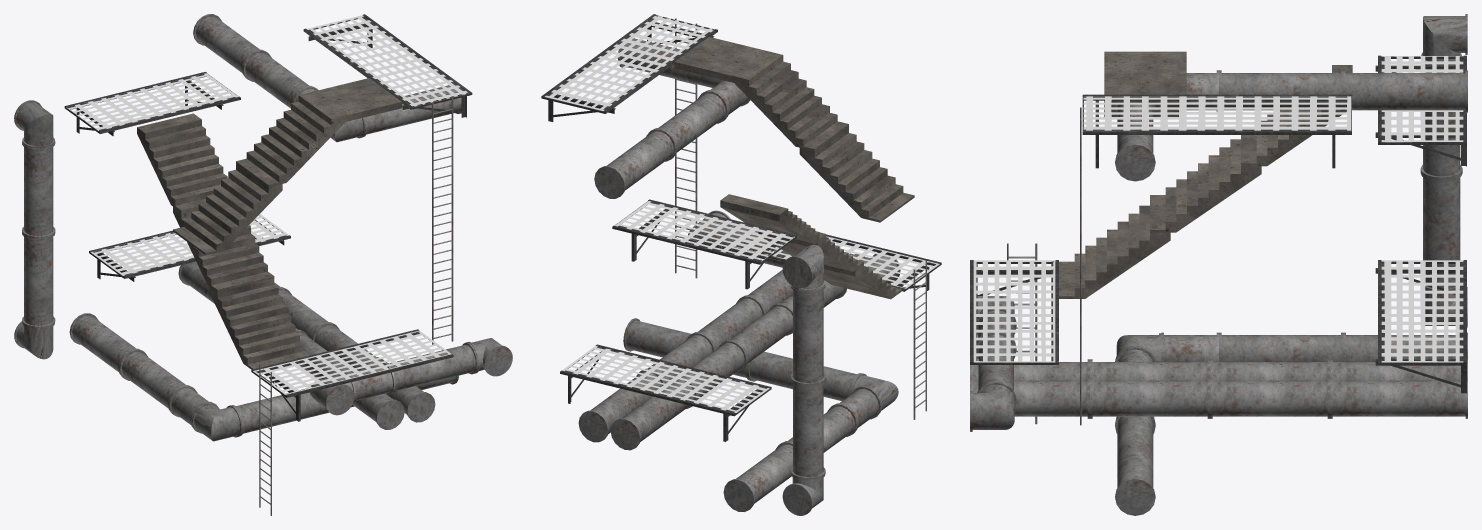
Rendered from Escaleras_3 Paredes_PasillosVerticales v1.fbx.
The picture shows the model from 3 angles, left to right: view 1: azimuth 30°, elevation 25°; view 2: azimuth 150°, elevation 25°; view 3: azimuth 270°, elevation 25°; orthographic projection. The views are drawn at different scales.
Parts seen in each view (by area): view 1: Tuberias_3Paredes, Escaleras_Concreto, Rejillas, Marcos, Escaleras, Sujeta_Rejas; view 2: Tuberias_3Paredes, Escaleras_Concreto, Rejillas, Marcos, Escaleras, Sujeta_Rejas; view 3: Tuberias_3Paredes, Rejillas, Escaleras_Concreto, Marcos, Sujeta_Rejas, Escaleras.
Boxes of the visible parts, x1,y1,x2,y2 form: Tuberias_3Paredes: (14,14,512,441); Escaleras_Concreto: (137,78,402,369); Rejillas: (66,15,468,394); Marcos: (64,14,472,397); Escaleras: (259,98,453,515); Sujeta_Rejas: (76,23,466,421); Tuberias_3Paredes: (578,38,900,515); Escaleras_Concreto: (674,37,914,299); Rejillas: (544,16,939,412); Marcos: (541,14,941,416); Escaleras: (675,18,926,419); Sujeta_Rejas: (548,22,929,441); Tuberias_3Paredes: (970,14,1467,515); Rejillas: (973,56,1463,362); Escaleras_Concreto: (1059,51,1352,298); Marcos: (970,55,1466,364); Sujeta_Rejas: (977,65,1466,393); Escaleras: (1007,107,1081,425).
Size of the model in its own units: 1809 by 1920 by 2000.
